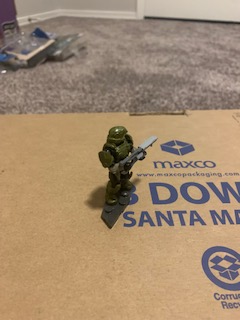soldier: (97, 124, 160, 201)
